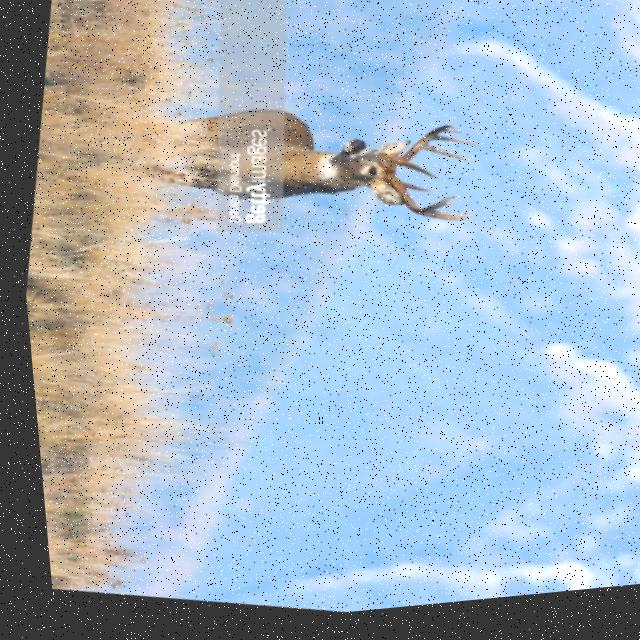E1: (440, 209, 452, 214)
L-F: (390, 133, 455, 172)
L-G1: (394, 169, 438, 187)
L-G2: (418, 152, 469, 170)
L-G3: (429, 144, 476, 155)
L-G4: (440, 137, 459, 142)
R-F: (380, 182, 452, 221)
R-G1: (399, 189, 429, 199)
R-G2: (411, 220, 469, 228)
R-G3: (422, 218, 472, 225)
